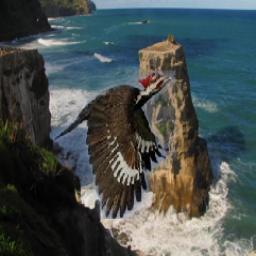Woodpecker: (54, 70, 176, 219)
